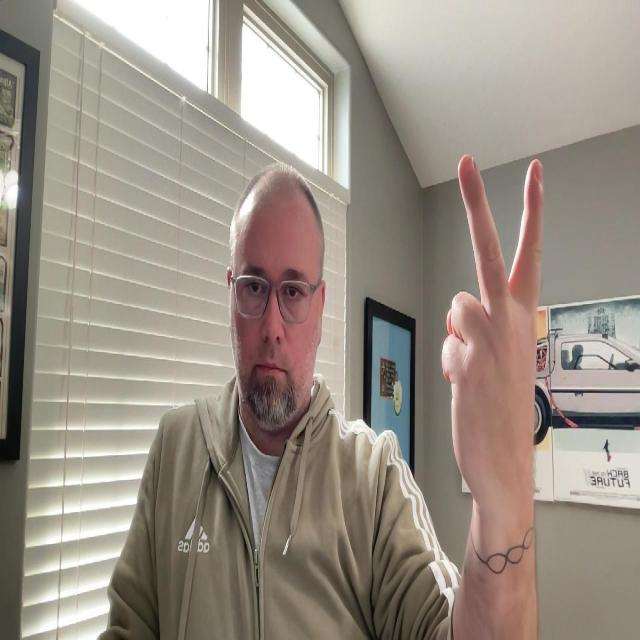face: (229, 220, 323, 432)
